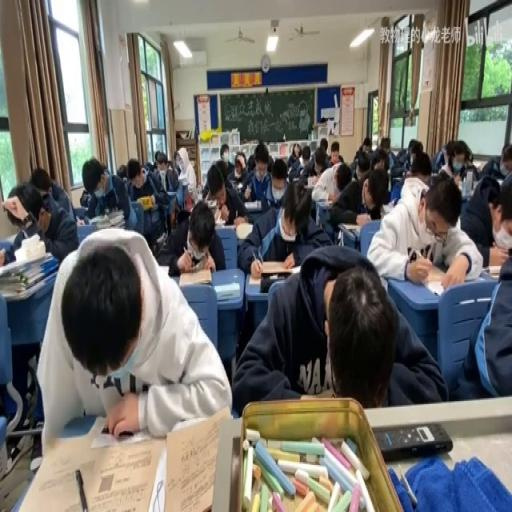calculator: (10, 414, 160, 510), (160, 405, 230, 512), (145, 442, 166, 511), (253, 259, 297, 286), (415, 266, 450, 294), (178, 267, 212, 286), (214, 282, 240, 300), (481, 263, 503, 279), (234, 222, 252, 240), (137, 193, 154, 209), (338, 222, 360, 232), (213, 208, 226, 224), (380, 200, 394, 214), (472, 158, 487, 171), (243, 199, 262, 209), (156, 260, 170, 272), (306, 176, 318, 188), (288, 263, 301, 273), (318, 198, 334, 206), (205, 199, 217, 208), (288, 176, 301, 184), (234, 180, 244, 190), (75, 216, 85, 225)
paper: (38, 224, 230, 446), (230, 244, 441, 414), (368, 174, 482, 292), (238, 178, 331, 273), (458, 258, 512, 400), (5, 176, 77, 266), (83, 156, 141, 244), (162, 196, 225, 276), (320, 160, 370, 228), (481, 171, 512, 270), (474, 141, 510, 185), (140, 152, 174, 196), (438, 140, 468, 186), (174, 146, 197, 202), (299, 144, 327, 179), (388, 141, 410, 183), (350, 136, 372, 174), (217, 145, 237, 181), (30, 166, 52, 198), (20, 194, 42, 224), (406, 139, 424, 172), (370, 148, 390, 175), (389, 176, 404, 205), (286, 142, 302, 169), (206, 171, 222, 196), (270, 158, 286, 180), (0, 243, 15, 266), (234, 156, 246, 180), (330, 141, 340, 168), (115, 162, 127, 179), (245, 152, 255, 172), (80, 189, 90, 206), (318, 138, 328, 154), (152, 149, 162, 165), (380, 138, 389, 154), (144, 162, 154, 175), (458, 164, 466, 179), (466, 150, 473, 164), (173, 162, 180, 175), (337, 152, 342, 161)
person: (373, 422, 452, 461)
